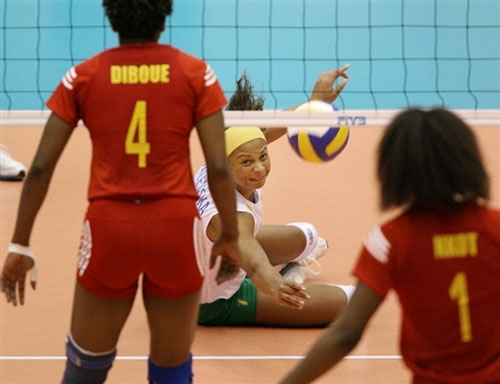falling: (180, 104, 362, 360)
